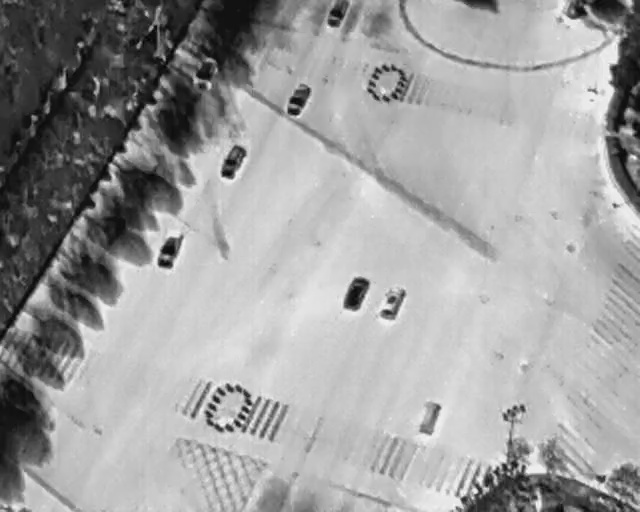Car: (190, 54, 224, 96), (376, 281, 408, 323), (155, 228, 186, 271), (341, 272, 372, 313), (217, 142, 248, 182), (283, 79, 313, 118), (417, 398, 442, 435), (326, 0, 347, 28)
